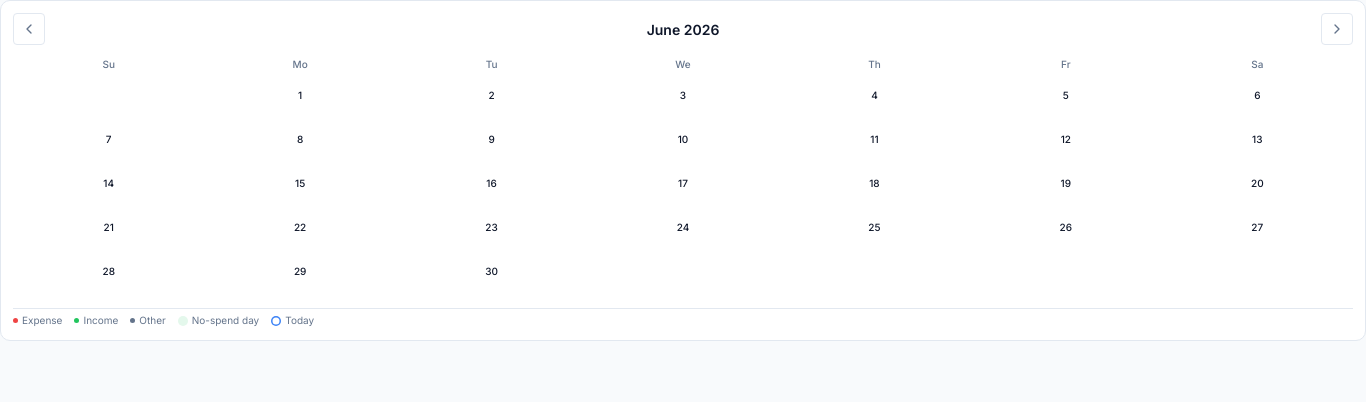
Scenario: MonthCalendar › navigation › navigates to previous month
Click the button named "previous month" at (29, 29), box left=13, top=13, right=45, bottom=45
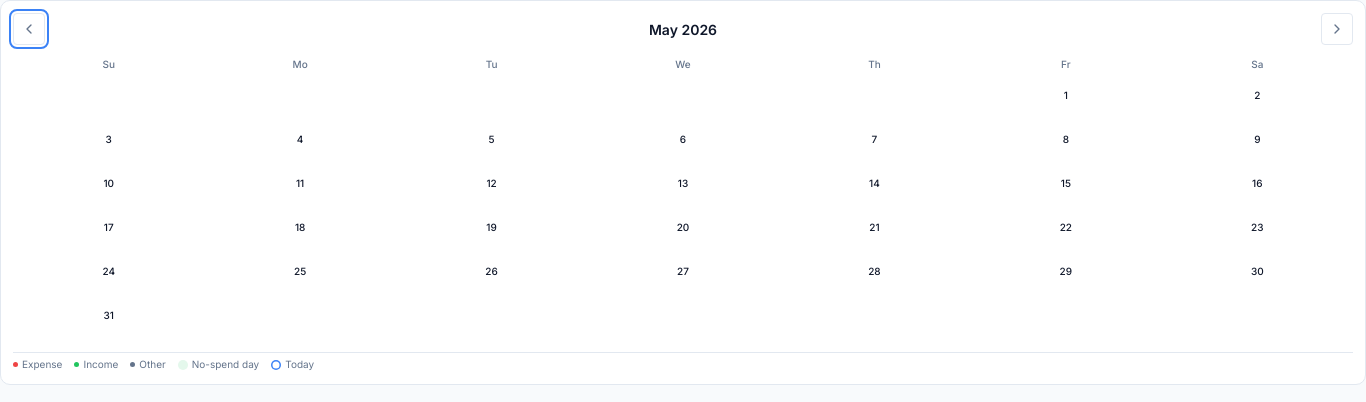
Result: the text "May 2026" is shown at left=649, top=18, right=717, bottom=40
